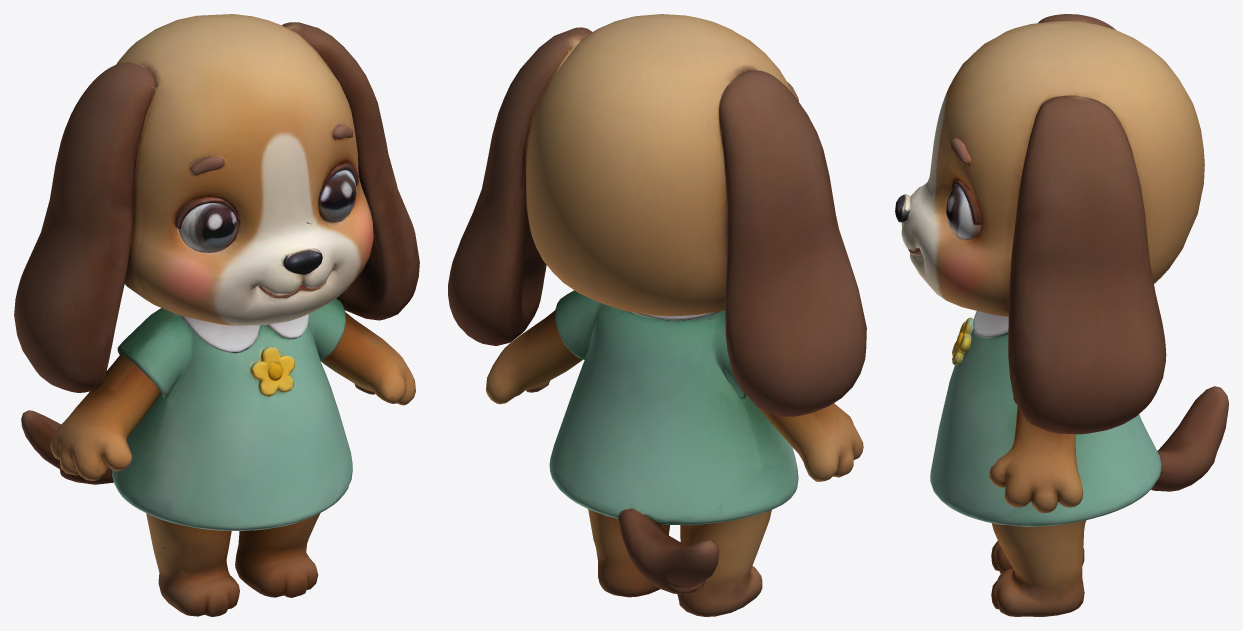
The model's file is npc_chi_mai.glb.
3 renders of one model, left to right at view 1: azimuth 30°, elevation 25°; view 2: azimuth 150°, elevation 25°; view 3: azimuth 270°, elevation 25°, orthographic. The views are drawn at different scales.
Parts seen in each view (by area): view 1: node_0; view 2: node_0; view 3: node_0.
Part boxes in pixels (left/top/right/bottom): node_0: left=14, top=14, right=419, bottom=616; node_0: left=448, top=14, right=866, bottom=616; node_0: left=895, top=14, right=1228, bottom=616.
Bounding box in the file's own units: 0.8246 × 1.16 × 0.6376.
1 material, 1 textured.
